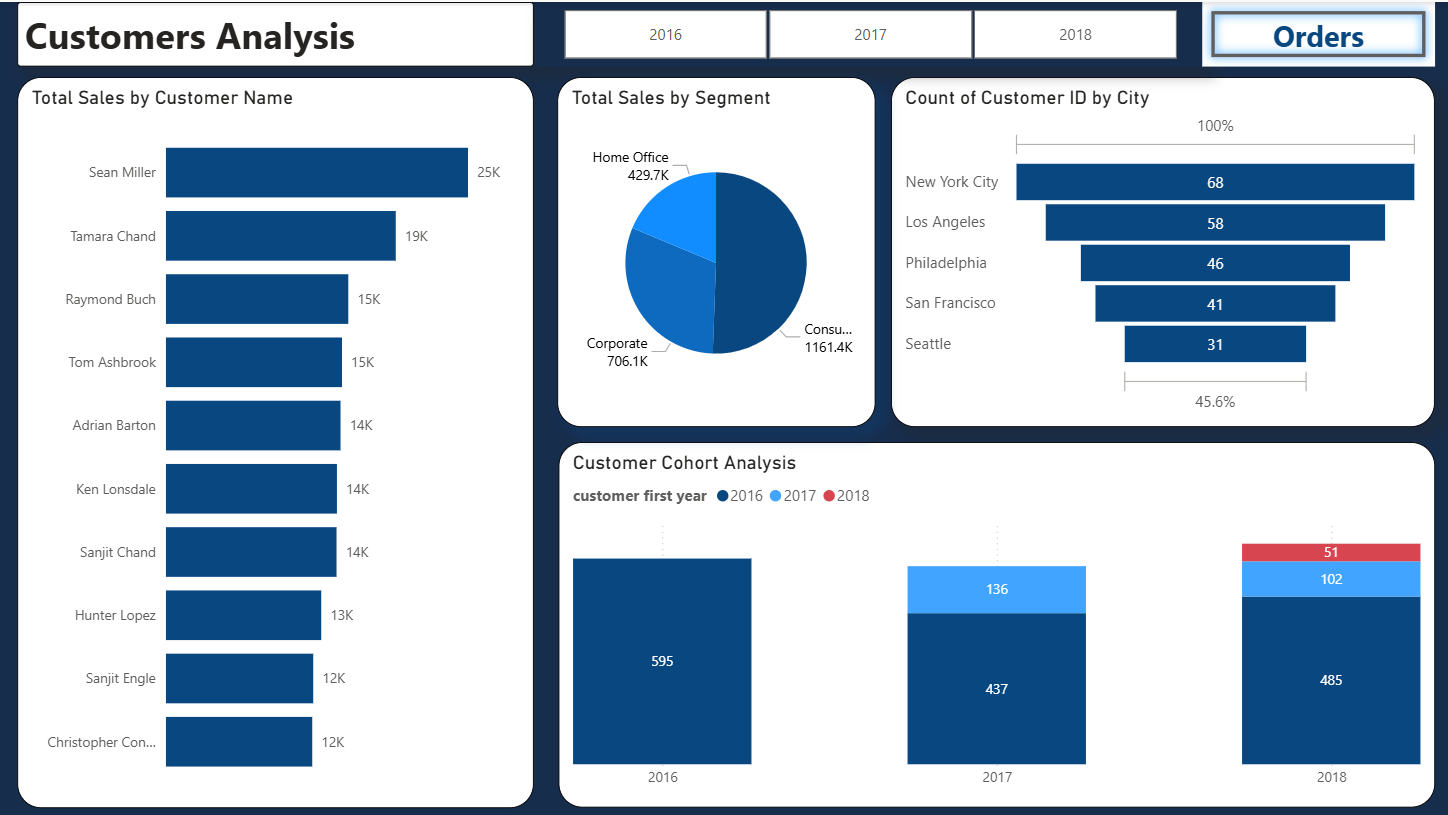

The page's visual inventory and layout, read from the dashboard file:
{"tool":"powerbi","page":{"name":"Customers","canvas":[1280,720],"ordinal":1},"visuals":[{"type":"textbox","box":[18.6,0,454.3,57.1],"z":0},{"type":"funnel","fields":{"Category":["Customers.City"],"Y":["CountNonNull(Customers.Customer ID)"]},"box":[786.9,65.5,478.6,308.3],"z":1000},{"type":"slicer","fields":{"Values":["Date.Year"]},"box":[473.4,0,589,56.5],"z":2000},{"type":"clusteredBarChart","fields":{"Category":["Customers.Customer Name"],"Y":["Measures (2).Total Sales"]},"box":[18.6,65.7,454.3,642.9],"z":3000},{"type":"columnChart","title":"Customer Cohort Analysis","fields":{"Category":["Date.Year"],"Y":["Measures (2).Customers Count"],"Series":["Customers.customer first year"]},"box":[494.3,387.1,771.4,321.4],"z":4000},{"type":"pieChart","fields":{"Category":["Customers.Segment"],"Y":["Measures (2).Total Sales"]},"box":[494.1,65.5,279.8,308.3],"z":5000},{"type":"actionButton","box":[1061.1,0,204.4,56.5],"z":6000}]}

Visuals, with their boxes in screenshot pixels (x1, y1, x2, y2), scaled from the page's 1280x720 canvas onto the 1448x815 screenshot:
textbox: x1=21 y1=0 x2=535 y2=65
funnel - Customers.City x CountNonNull(Customers.Customer ID): x1=890 y1=74 x2=1432 y2=423
slicer - Date.Year: x1=536 y1=0 x2=1202 y2=64
clusteredBarChart - Customers.Customer Name x Measures (2).Total Sales: x1=21 y1=74 x2=535 y2=802
"Customer Cohort Analysis" columnChart: x1=559 y1=438 x2=1432 y2=802
pieChart - Customers.Segment x Measures (2).Total Sales: x1=559 y1=74 x2=875 y2=423
actionButton: x1=1200 y1=0 x2=1432 y2=64
